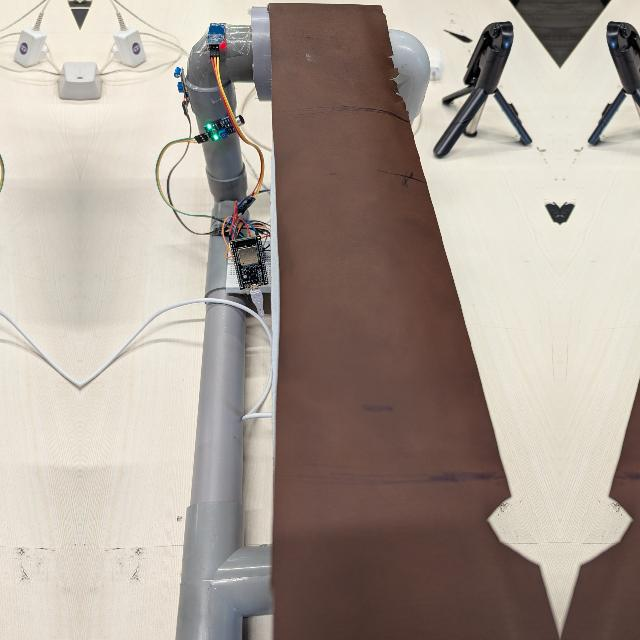belt_tear: (472, 455, 544, 582), (576, 455, 640, 582)
edge_damage: (374, 32, 414, 123)
